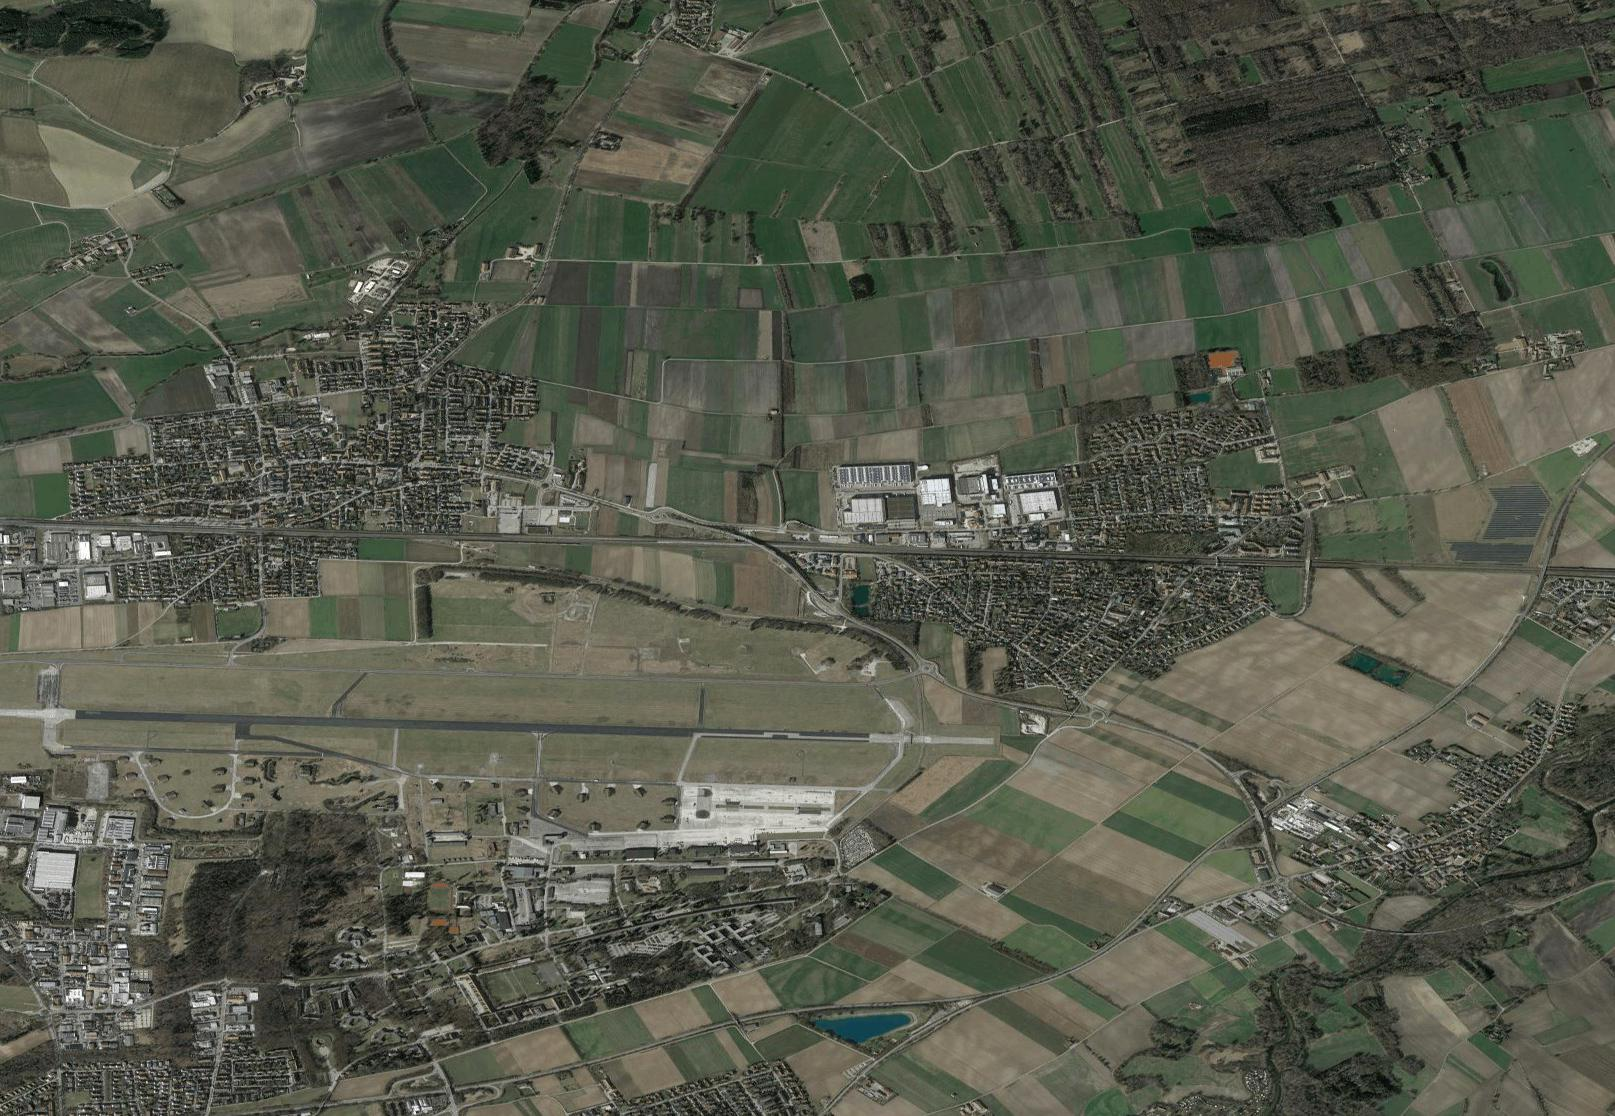industrial: (825, 454, 1066, 545)
motorway: (1128, 552, 1615, 579), (561, 525, 843, 561), (1, 510, 282, 545), (282, 518, 565, 552), (844, 535, 1127, 570)
